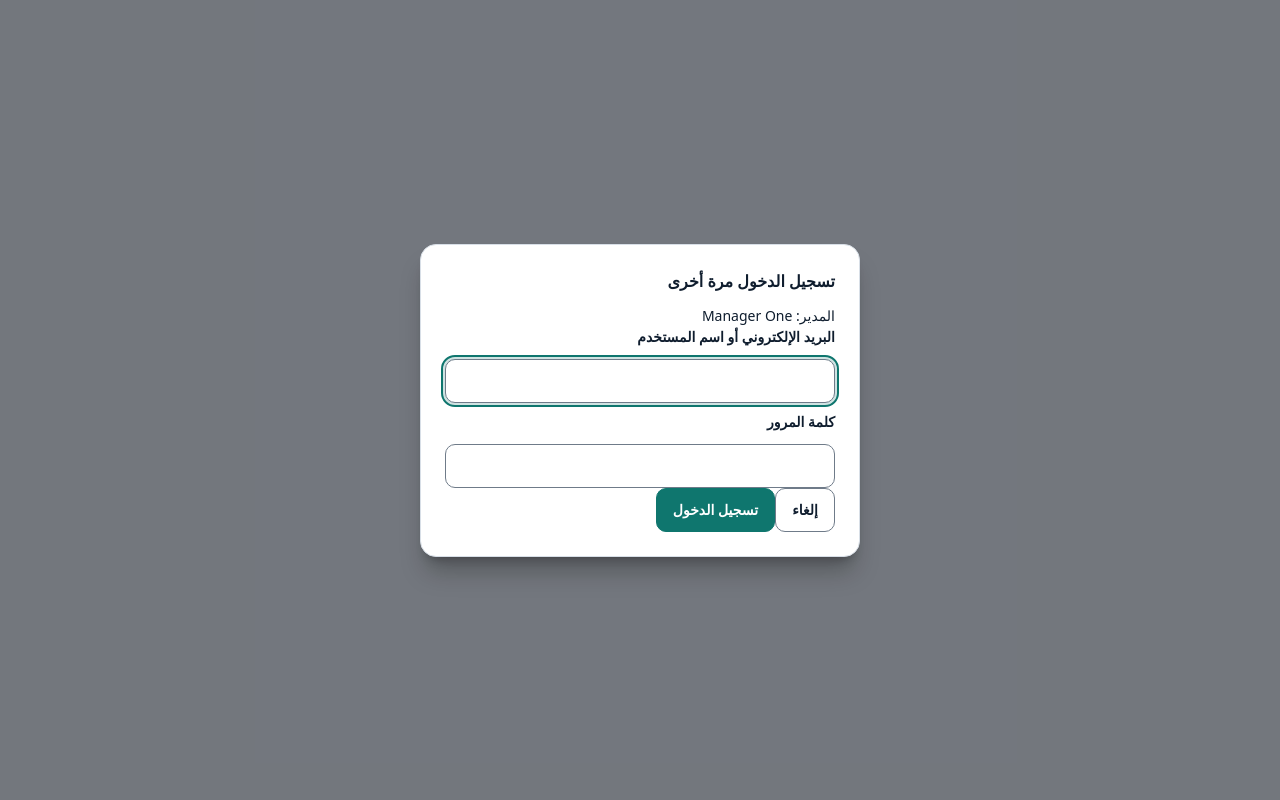
Test case: RT-358 ReauthDialog › a rate_limited refusal shows the sign-in copy, clears the password and stays open
The width and height of the screenshot is (1280, 800).
Step 1. Type "mgr@example.test" into the field with test id "reauth-identifier" → (640, 380), box left=445, top=358, right=835, bottom=402
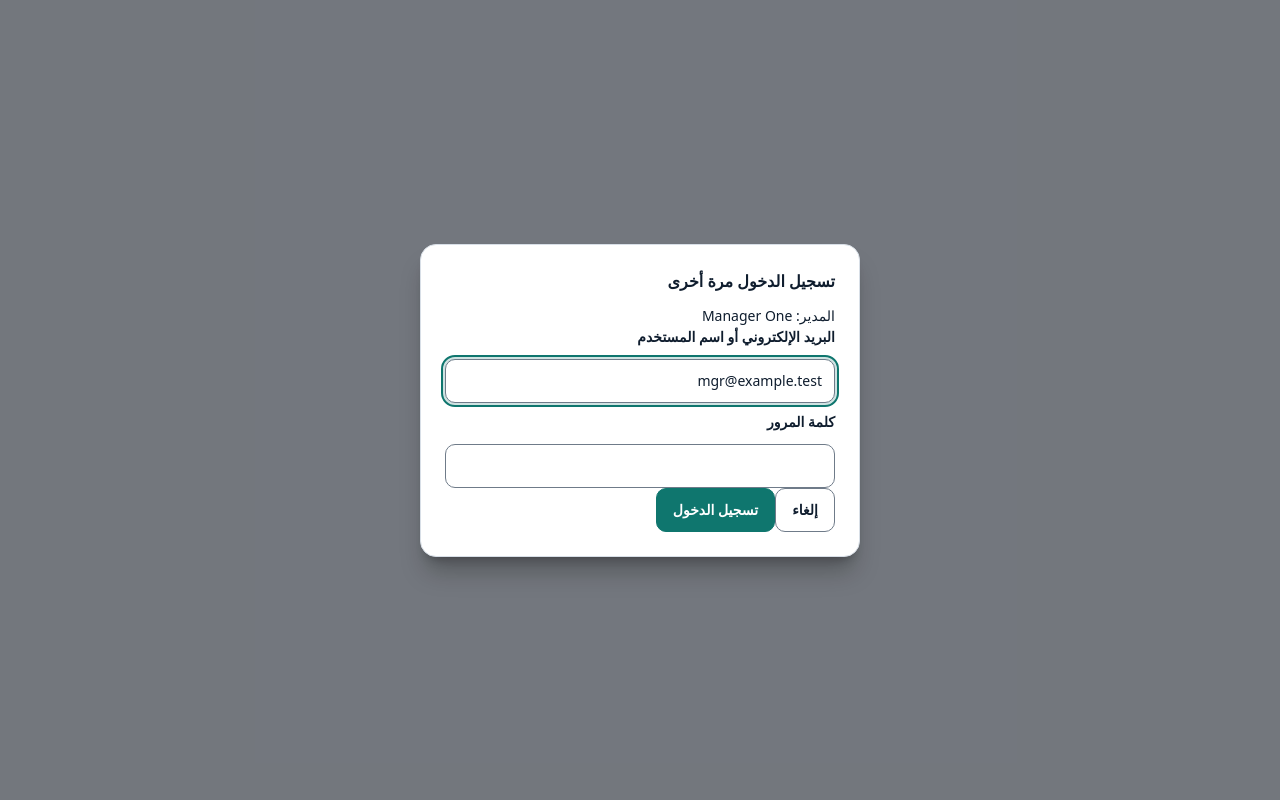
Step 2. Type "wrong" into the password field with test id "reauth-password" → (640, 466), box left=445, top=444, right=835, bottom=488
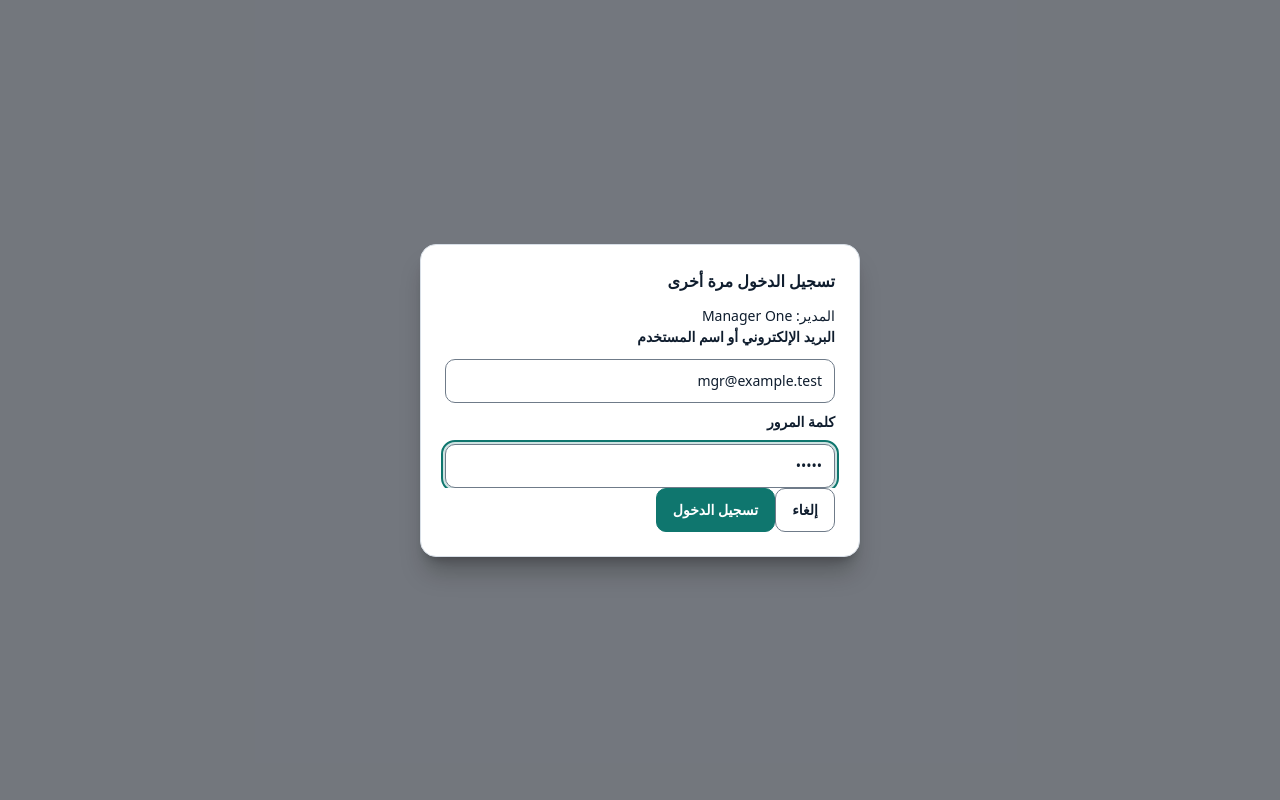
Step 3. Click the button "تسجيل الدخول" → (716, 510), box left=656, top=488, right=775, bottom=532
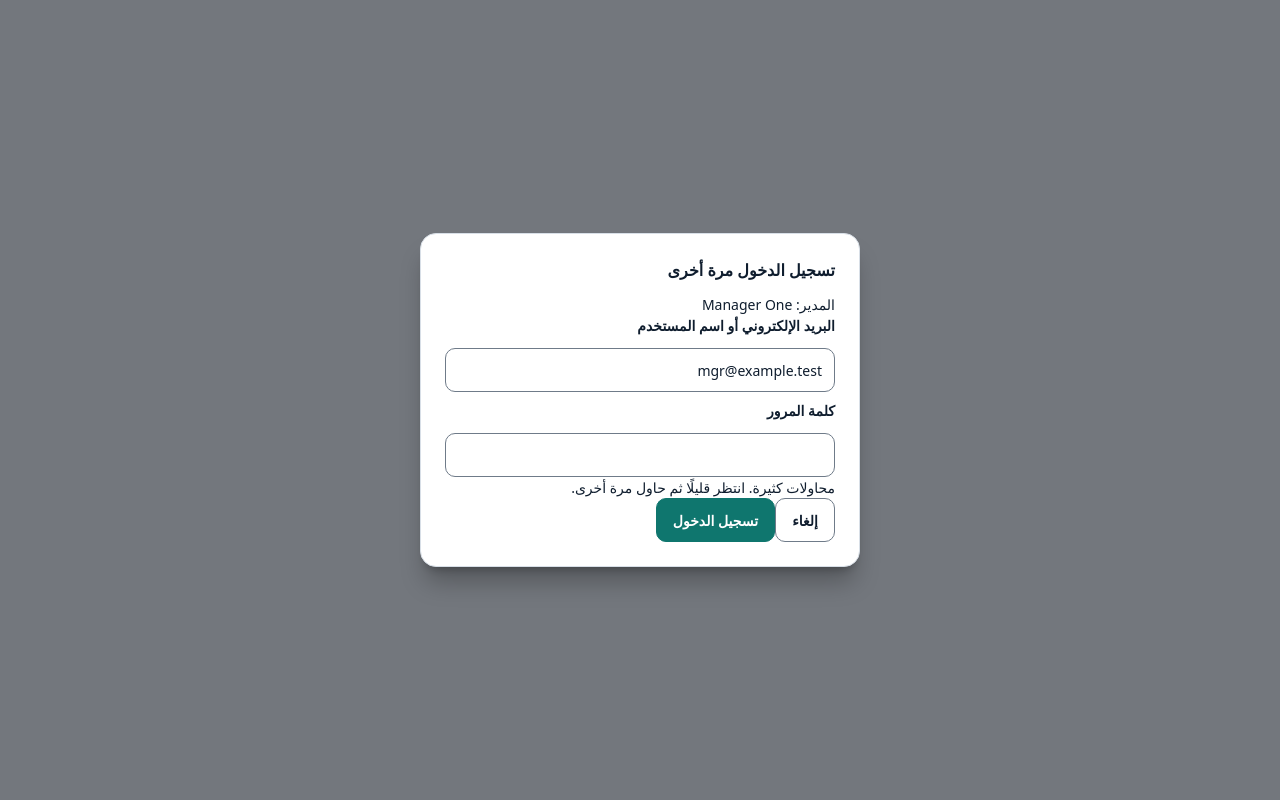
Check: the dialog is shown, box left=420, top=233, right=860, bottom=567
Check: the message with test id "reauth-refusal" reads "محاولات كثيرة. انتظر قليلًا ثم حاول مرة أخرى.", box left=571, top=478, right=835, bottom=497
Check: the password field with test id "reauth-password" is empty, box left=445, top=433, right=835, bottom=477
